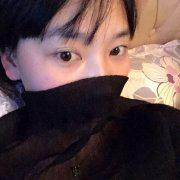WRONG: (41, 29, 133, 121)
